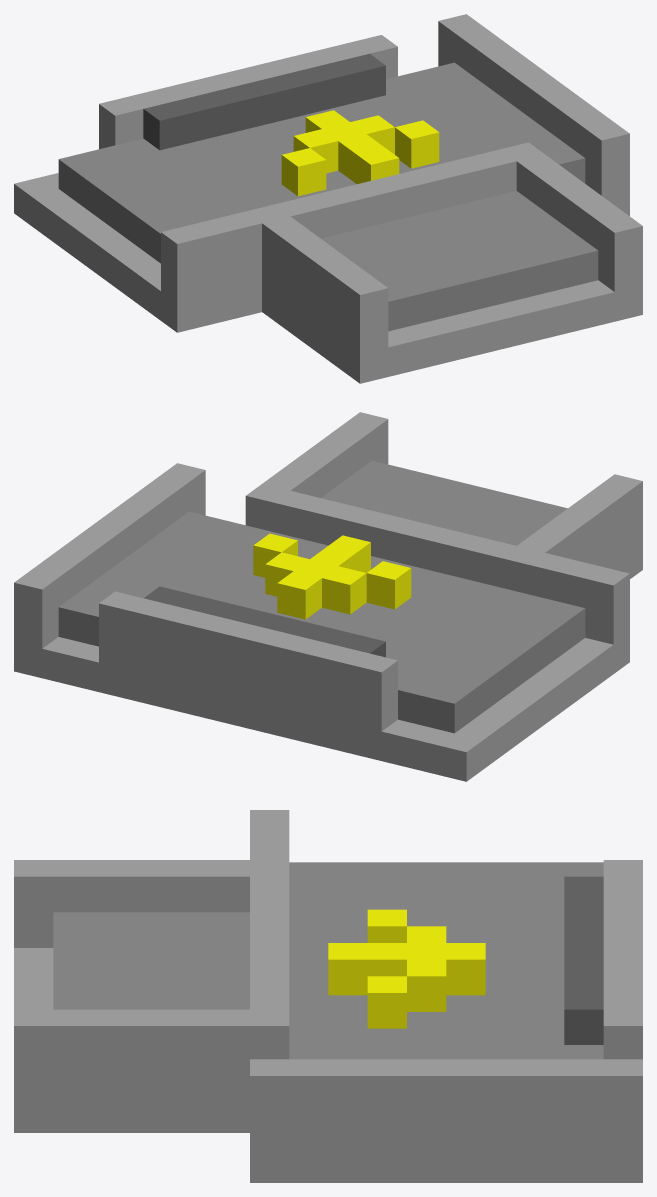
The model's file is corner_right.glb.
The picture shows the model from 3 angles, top to bottom: view 1: azimuth 30°, elevation 25°; view 2: azimuth 150°, elevation 25°; view 3: azimuth 270°, elevation 25°; orthographic projection. The views are drawn at different scales.
Parts seen in each view (by area): view 1: VoxelModel; view 2: VoxelModel; view 3: VoxelModel.
Boxes of the visible parts, x1,y1,x2,y2 form: VoxelModel: [14, 14, 642, 383]; VoxelModel: [14, 412, 642, 781]; VoxelModel: [14, 810, 642, 1182].
Size of the model in its own units: 1 by 0.1875 by 1.
